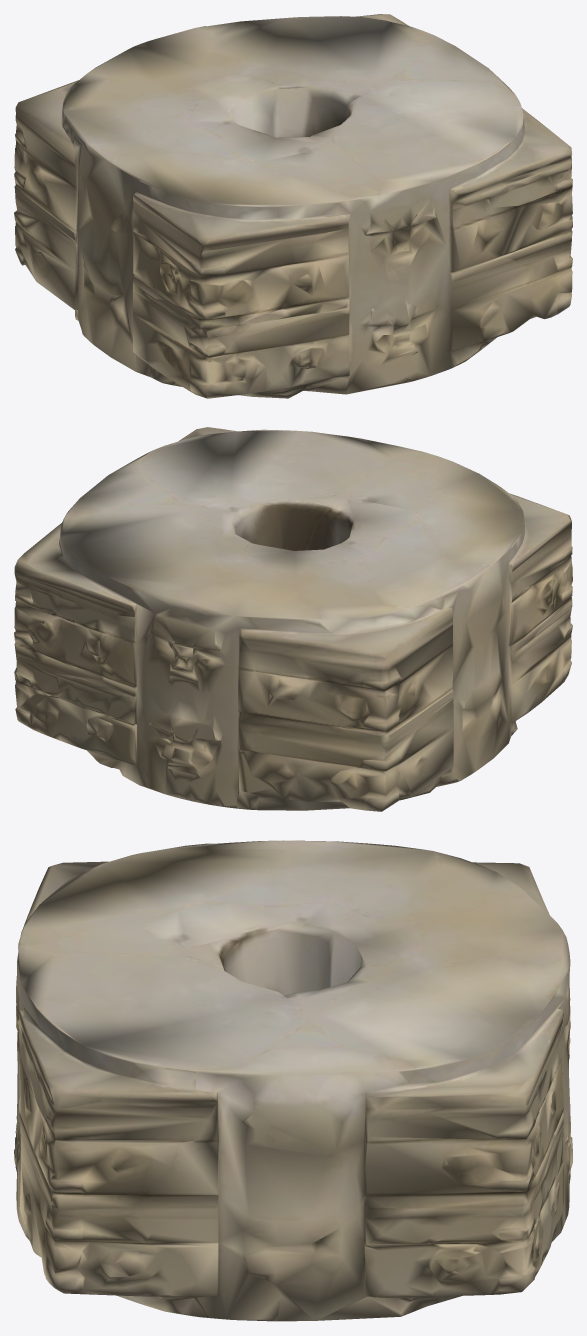
The model's file is liangzhu-king-overview.glb.
3 views of the same model, one above another, from view 1: azimuth 30°, elevation 25°; view 2: azimuth 150°, elevation 25°; view 3: azimuth 270°, elevation 25° (orthographic). The views are drawn at different scales.
Parts seen in each view (by area): view 1: node_0; view 2: node_0; view 3: node_0.
Part boxes in pixels (x1,y1,x2,y2): node_0: (14,14,572,398); node_0: (14,427,572,811); node_0: (14,840,572,1321).
Bounding box in the file's own units: 0.8897 × 0.4414 × 0.8871.
Materials: 1 (1 with a texture image).
